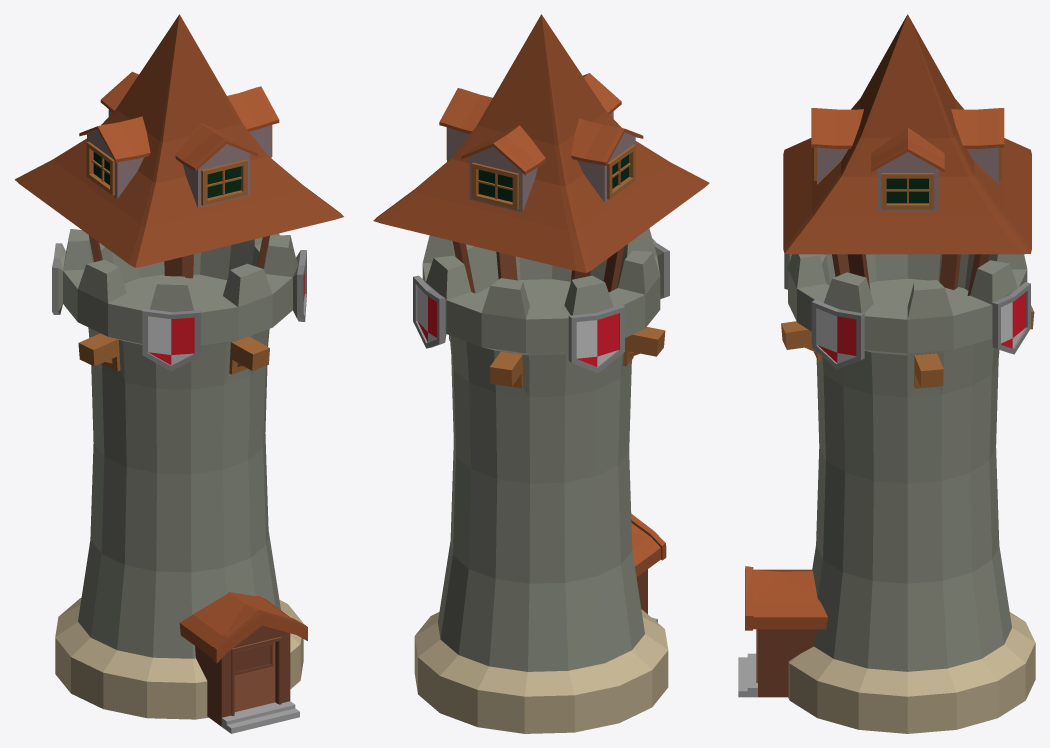
Rendered from watch_tower.dae.
3 renders of one model, left to right at view 1: azimuth 30°, elevation 25°; view 2: azimuth 150°, elevation 25°; view 3: azimuth 270°, elevation 25°, orthographic. The views are drawn at different scales.
Visible parts, largest first — view 1: tower, roof, entrance, window, window.002, window.003, plank, window.001; view 2: tower, roof, window.001, window.002, window.003, entrance, plank, window; view 3: tower, roof, entrance, window.003, window.001, window, plank.
Part boxes in pixels (x1,y1,x2,y2): tower: (52,229,306,719); roof: (14,14,343,267); entrance: (179,592,307,733); window: (175,123,257,207); window.002: (79,116,150,198); window.003: (227,86,279,158); plank: (88,235,269,278); window.001: (100,71,138,116); tower: (413,228,669,733); roof: (373,14,709,272); window.001: (461,125,545,212); window.002: (571,118,643,202); window.003: (439,88,492,161); entrance: (631,514,666,622); plank: (452,241,624,293); window: (583,73,621,118); tower: (781,254,1035,733); roof: (783,14,1031,254); entrance: (738,566,827,697); window.003: (871,127,944,210); window.001: (951,108,1004,184); window: (811,108,863,184); plank: (832,254,989,295).
Size of the model in its own units: 5.31 by 6.17 by 15.27.
